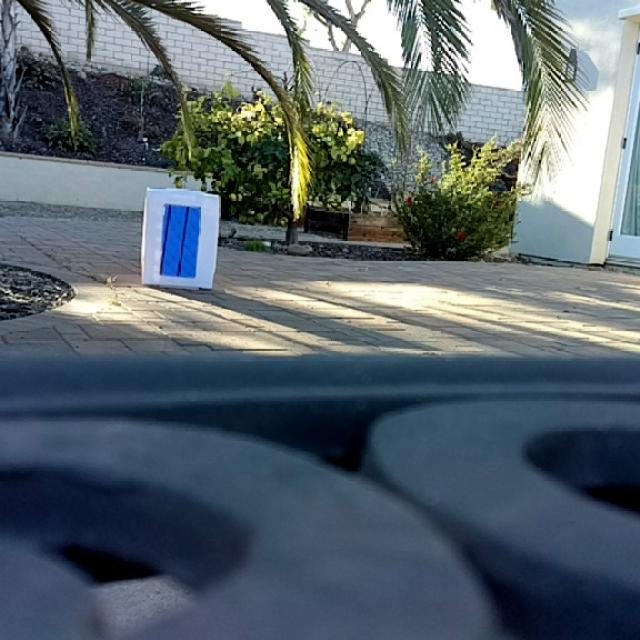led: (161, 203, 200, 278)
